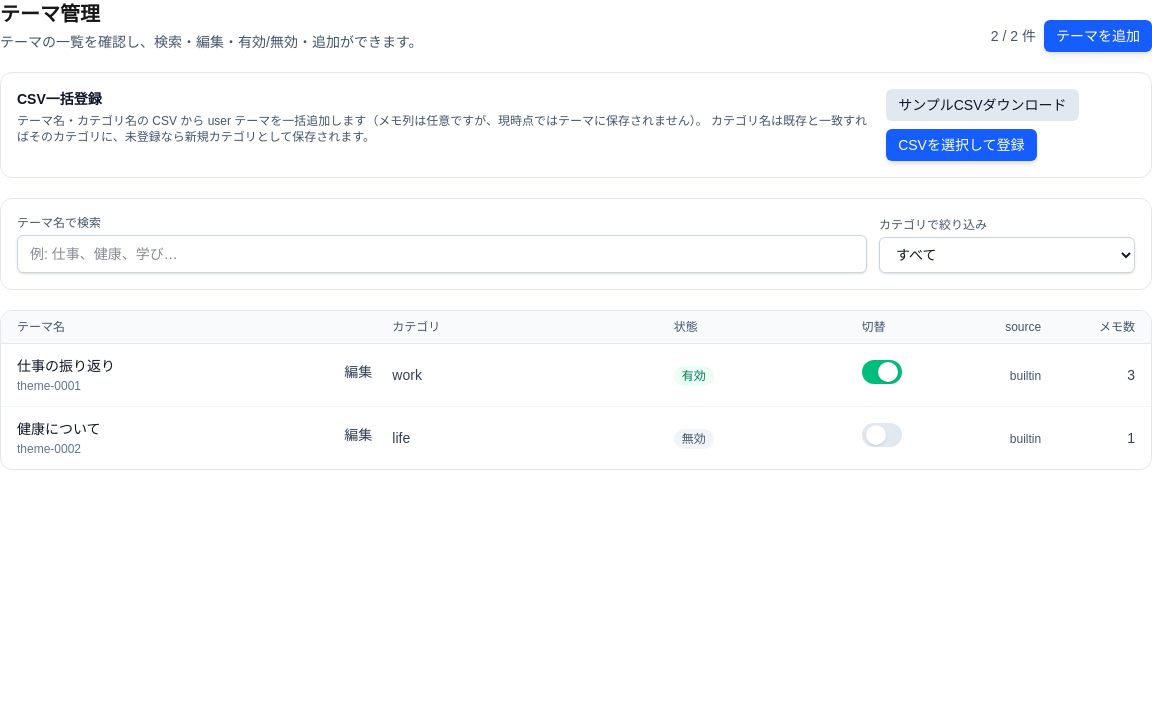
Test: /themes page › can edit a theme from list
Check: the text "仕事の振り返り" is shown, box [17,358,115,374]
Click the button with test id "themes-edit-theme-0001": click(358, 372) [332,356,384,388]
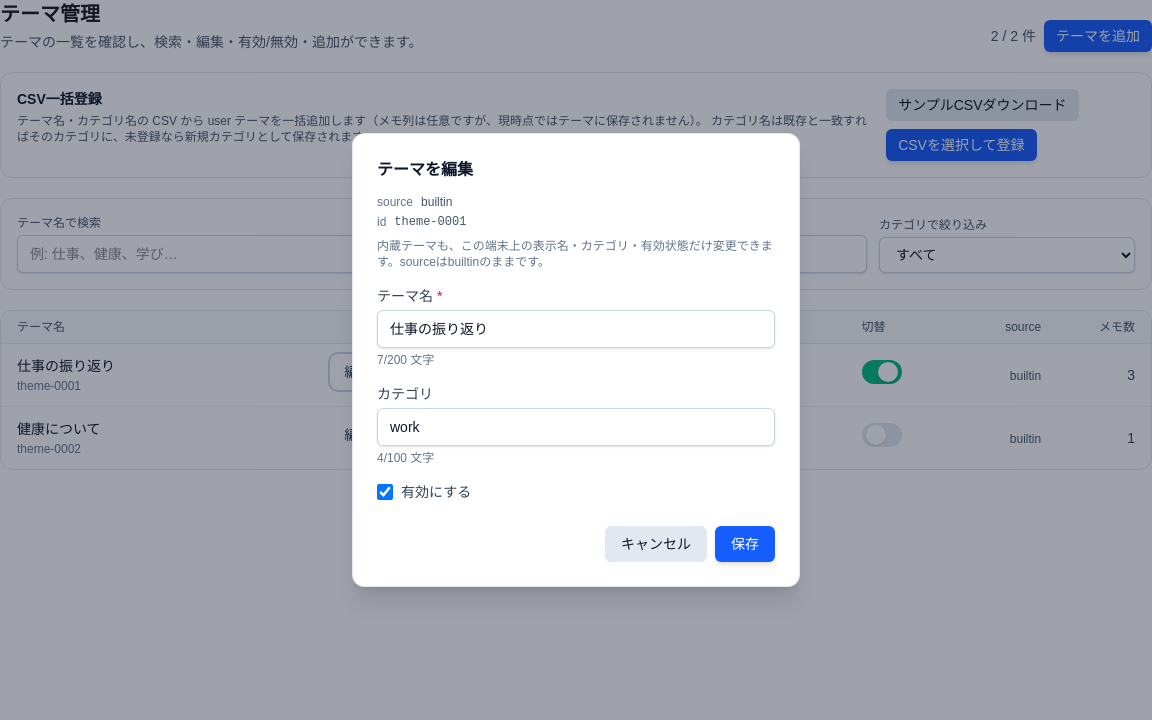
Check: the dialog "テーマを編集" is shown, box [352,133,800,587]
Replace the text in the field labelled "テーマ名 *" with "更新後タイトル": (576, 329) [377,310,775,348]
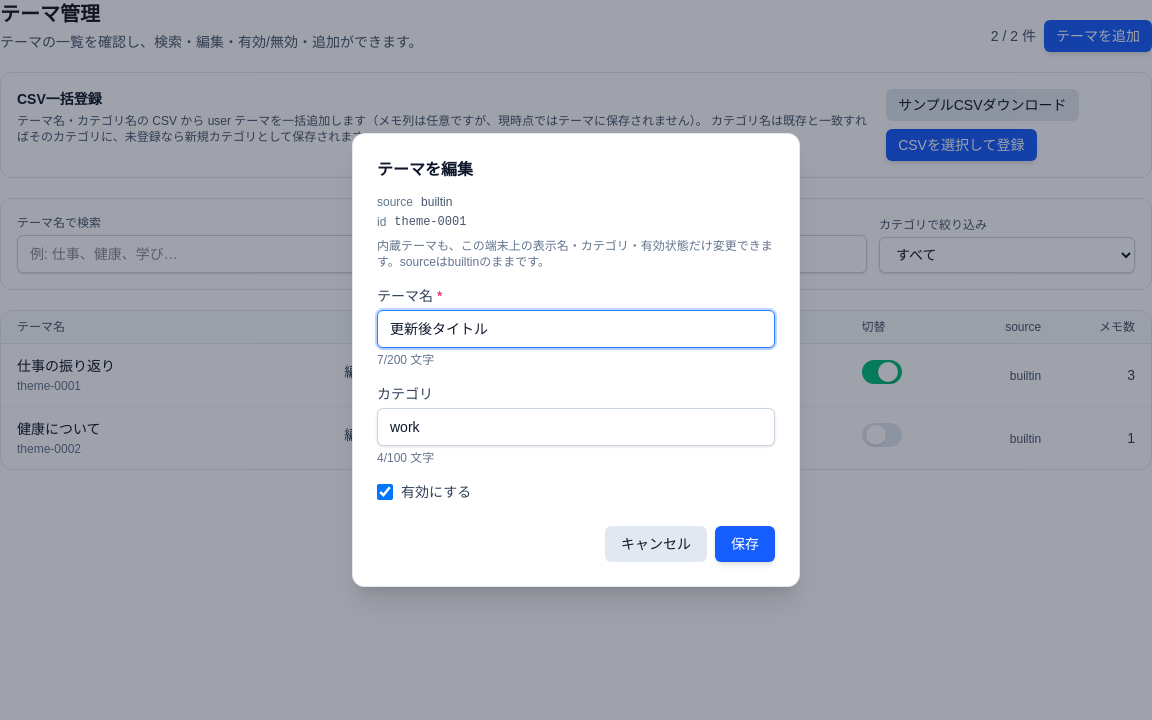
Click the button "保存": click(745, 544) [715,526,775,562]
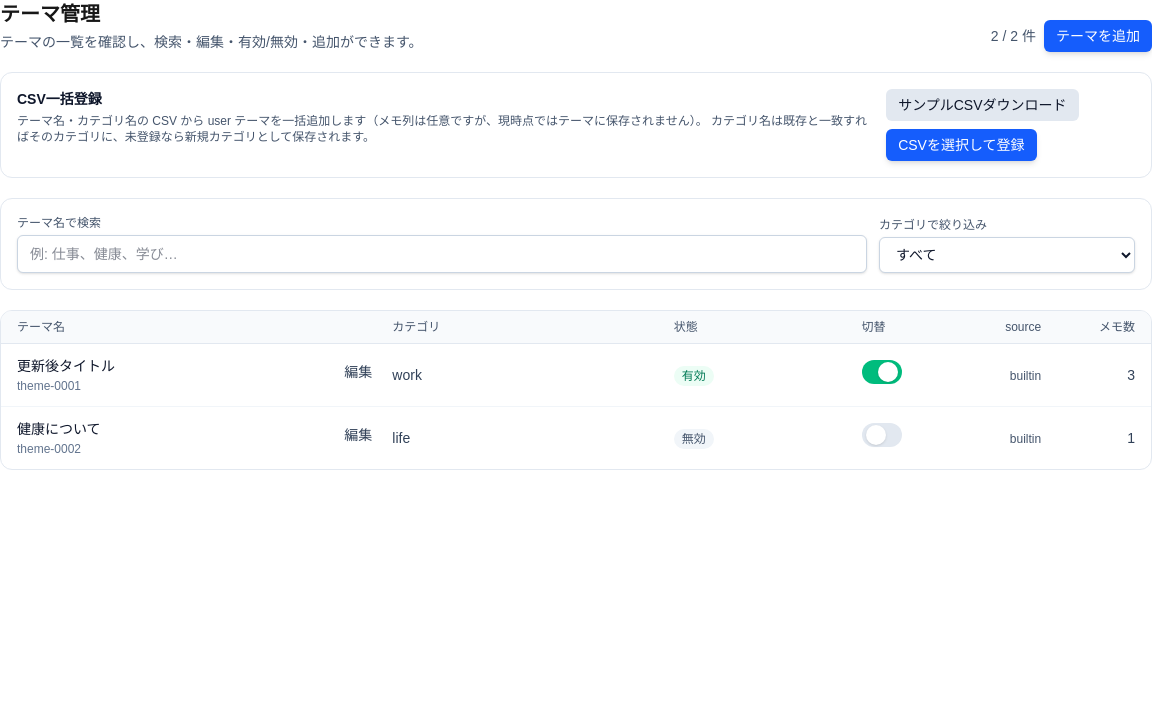
Check: the text "更新後タイトル" is shown, box [17,358,115,374]
